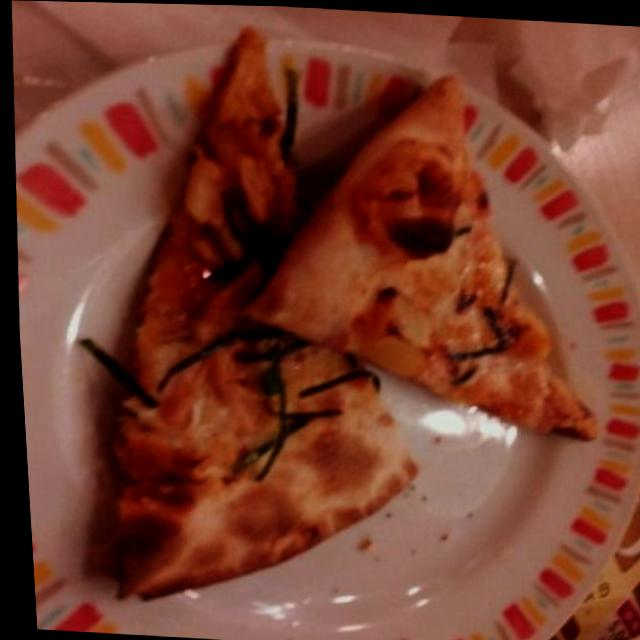汉堡快餐: (1, 16, 640, 640)
